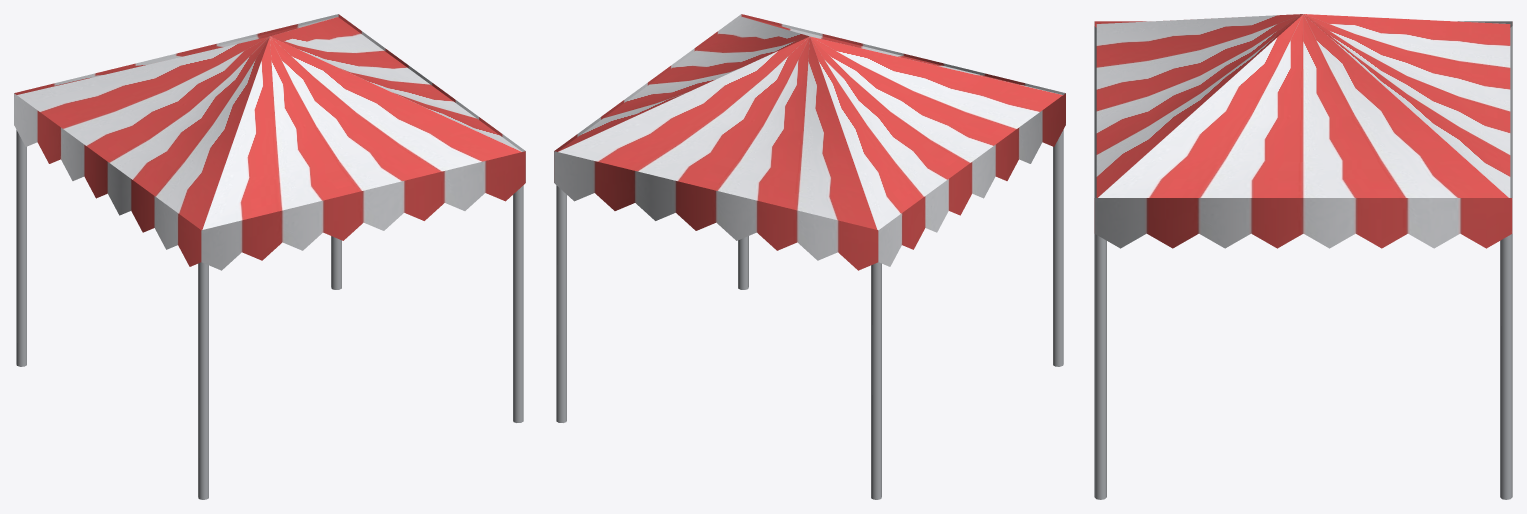
The model's file is market_tent_v2_lod1.glb.
3 views of the same model, side by side, from view 1: azimuth 30°, elevation 25°; view 2: azimuth 150°, elevation 25°; view 3: azimuth 270°, elevation 25° (orthographic). The views are drawn at different scales.
Parts seen in each view (by area): view 1: market_tent_v2; view 2: market_tent_v2; view 3: market_tent_v2.
Boxes of the visible parts, x1,y1,x2,y2 form: market_tent_v2: (14,14,525,499); market_tent_v2: (554,14,1065,499); market_tent_v2: (1094,14,1512,499).
Bounding box in the file's own units: 1.01 × 1.06 × 1.01.
Materials: 2 (1 with a texture image).
